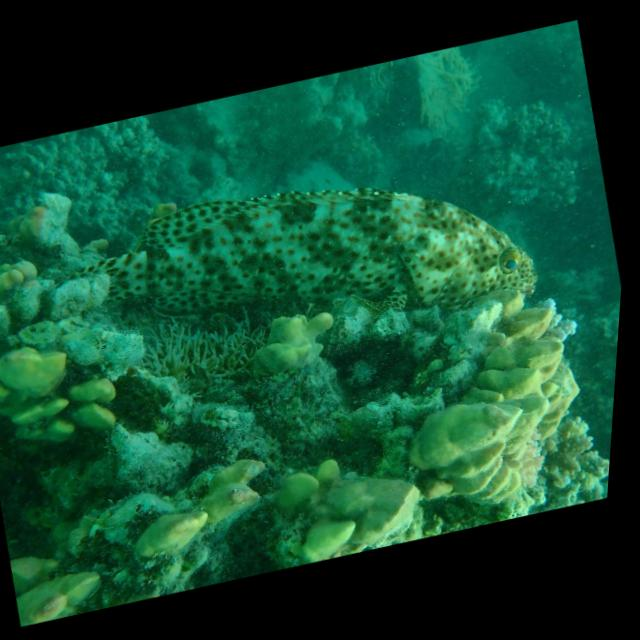Groupers: (55, 130, 554, 397)
